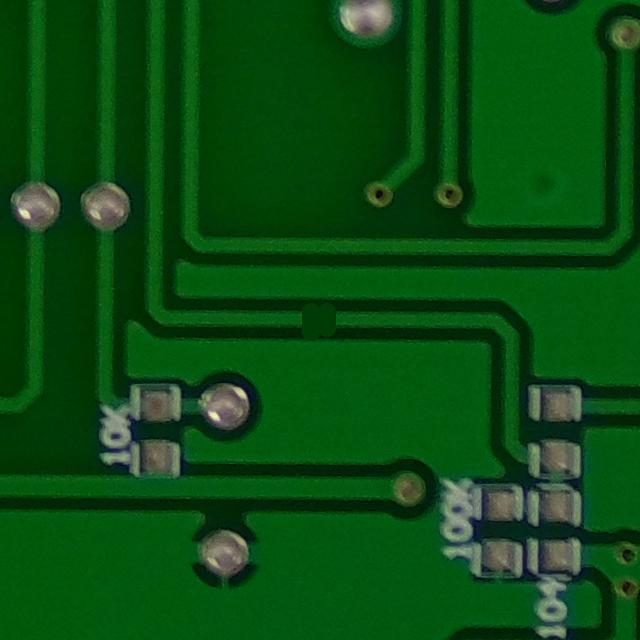open_circuit: (294, 302, 346, 339)
